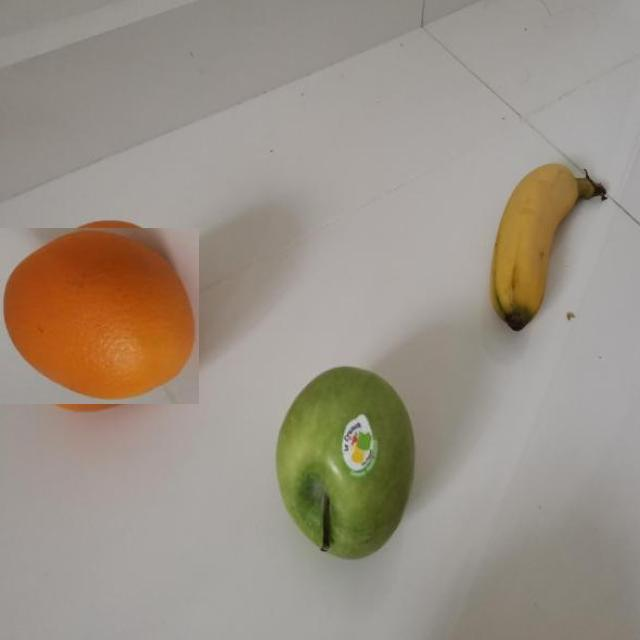Apple: (273, 363, 417, 560)
Banana: (488, 159, 612, 338)
Orange: (0, 228, 199, 404)
